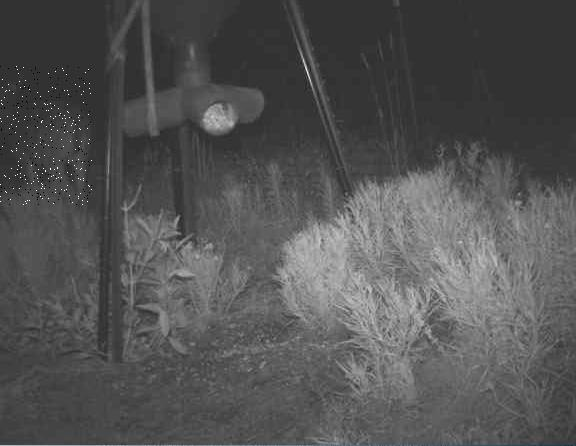Deer: (0, 66, 92, 205)
